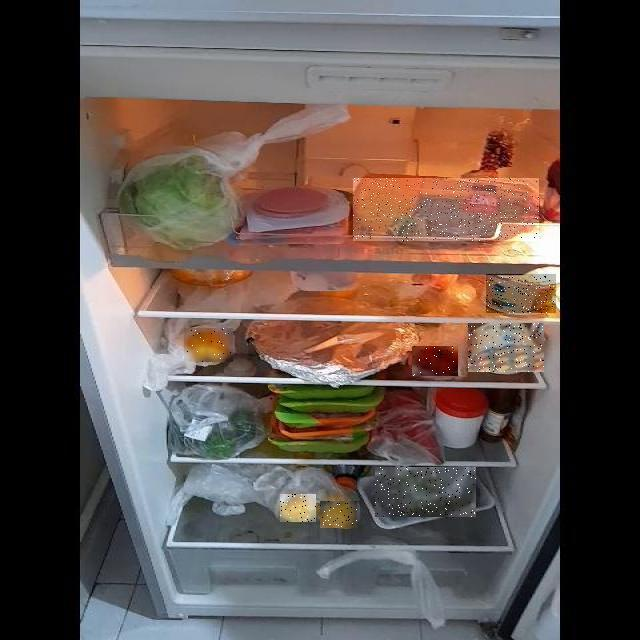Bread: (353, 178, 539, 241)
Broccoli: (375, 467, 476, 517)
Lemon: (184, 328, 233, 362), (280, 494, 316, 522), (320, 501, 357, 528)
Tomato Paste: (412, 346, 458, 376)
Yoghurt: (468, 323, 544, 372), (486, 274, 556, 313)
